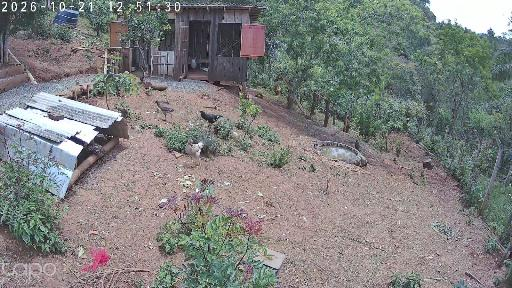frango: (154, 100, 176, 121)
galinha: (185, 138, 205, 169), (199, 111, 223, 127), (354, 139, 361, 152)
galo: (274, 84, 282, 96)
